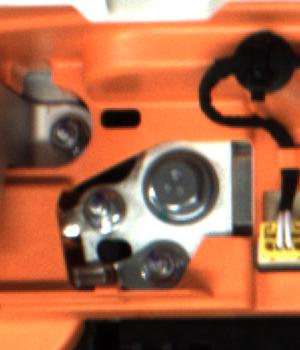nut_b: (136, 140, 227, 222)
screw_s: (49, 118, 86, 164), (81, 190, 122, 227)
